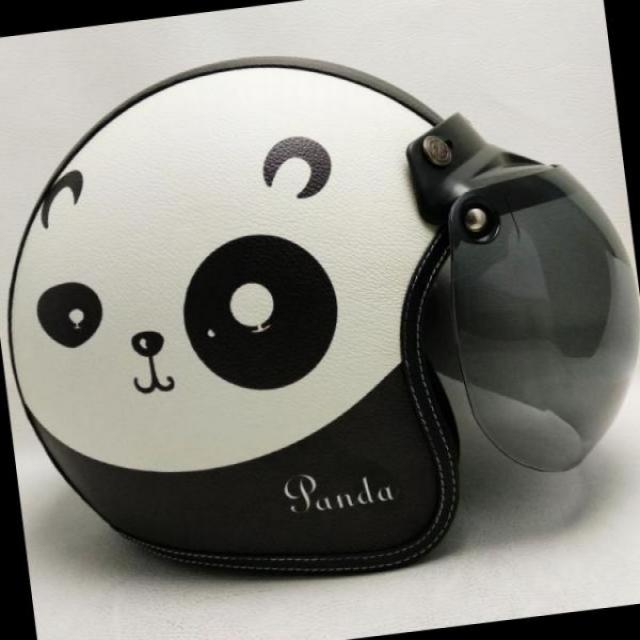Helmet: (16, 84, 628, 604)
